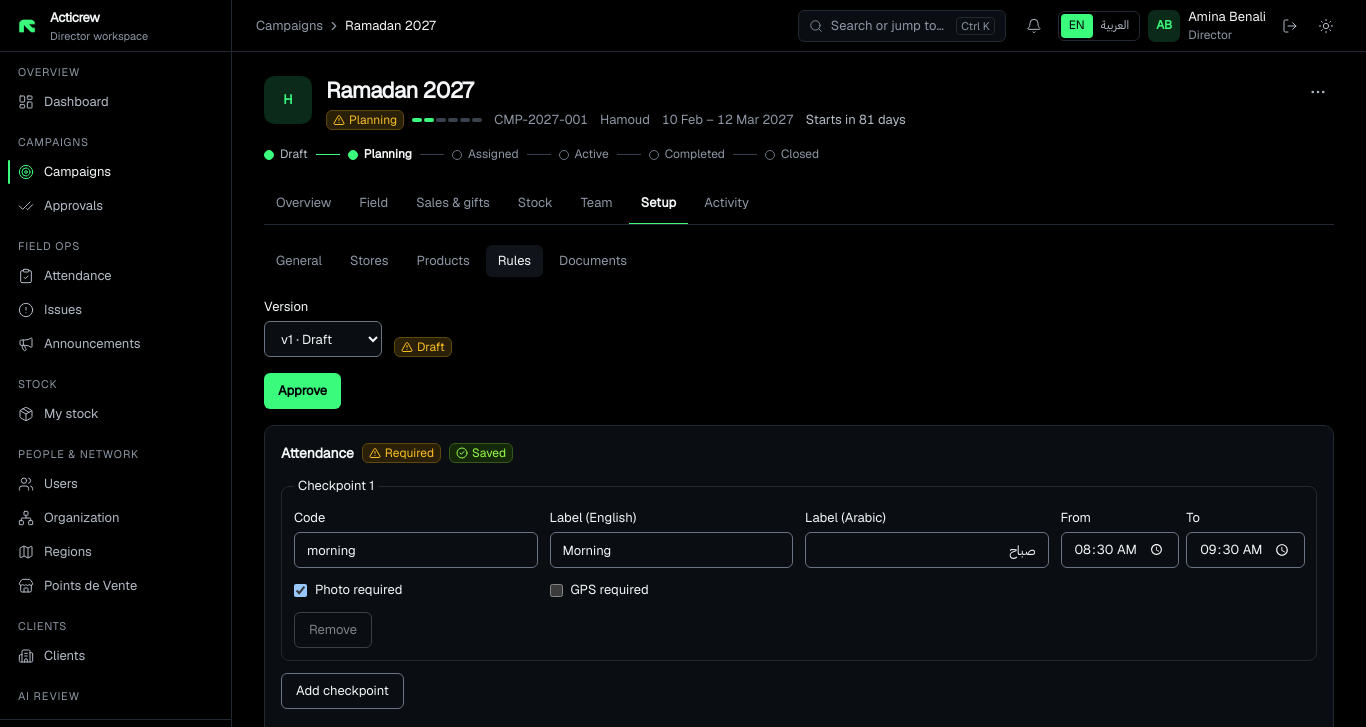
Test: approval › lists what the server found invalid at approval
Click the button "Approve".
click(303, 391)  # box 264,373 -> 341,409
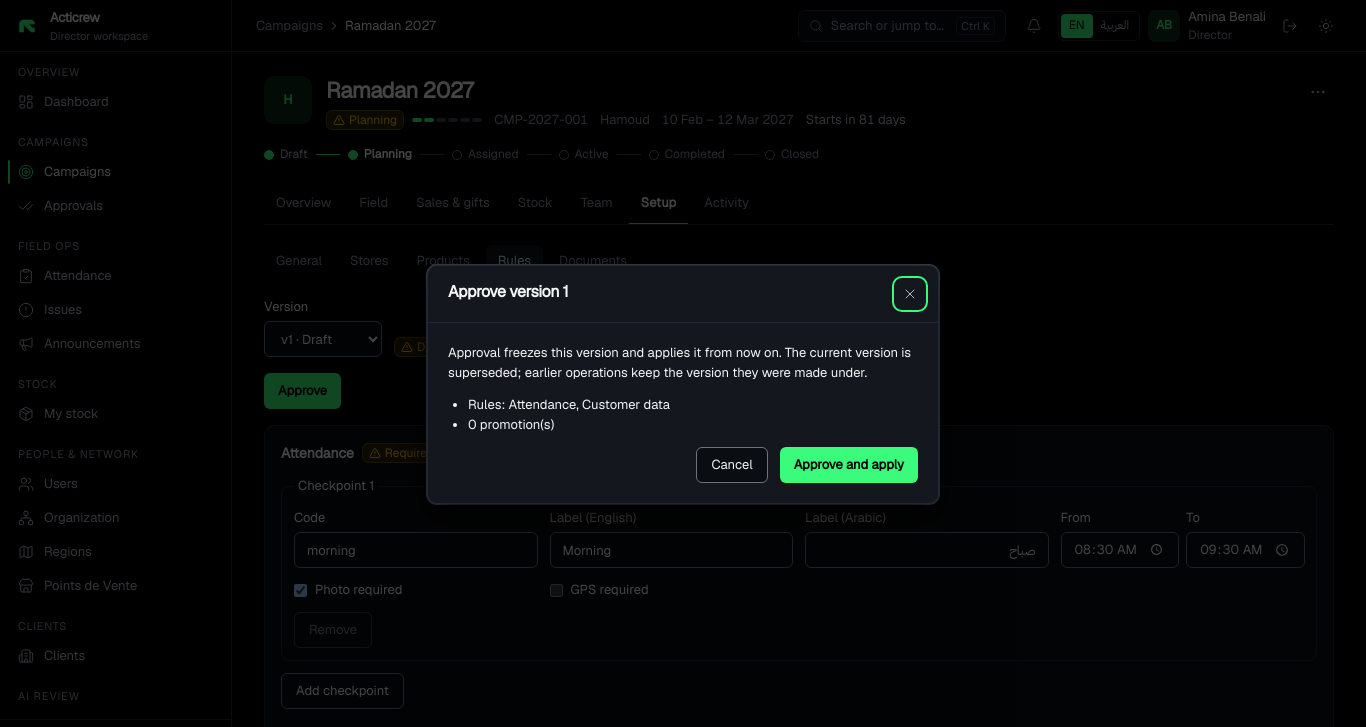
Click the button "Approve and apply".
click(849, 464)  # box 780,446 -> 918,482
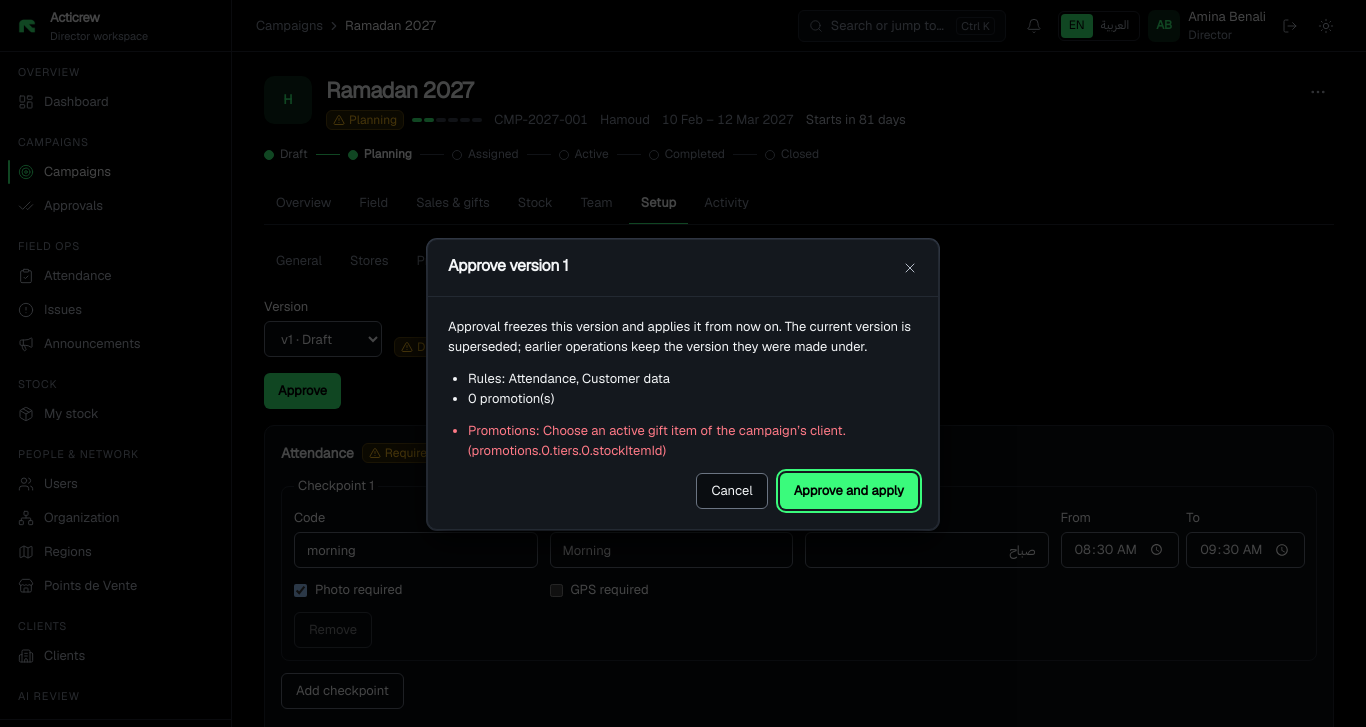
Expected: the list item "Choose an active gift item" is shown, 543,422 -> 846,438
